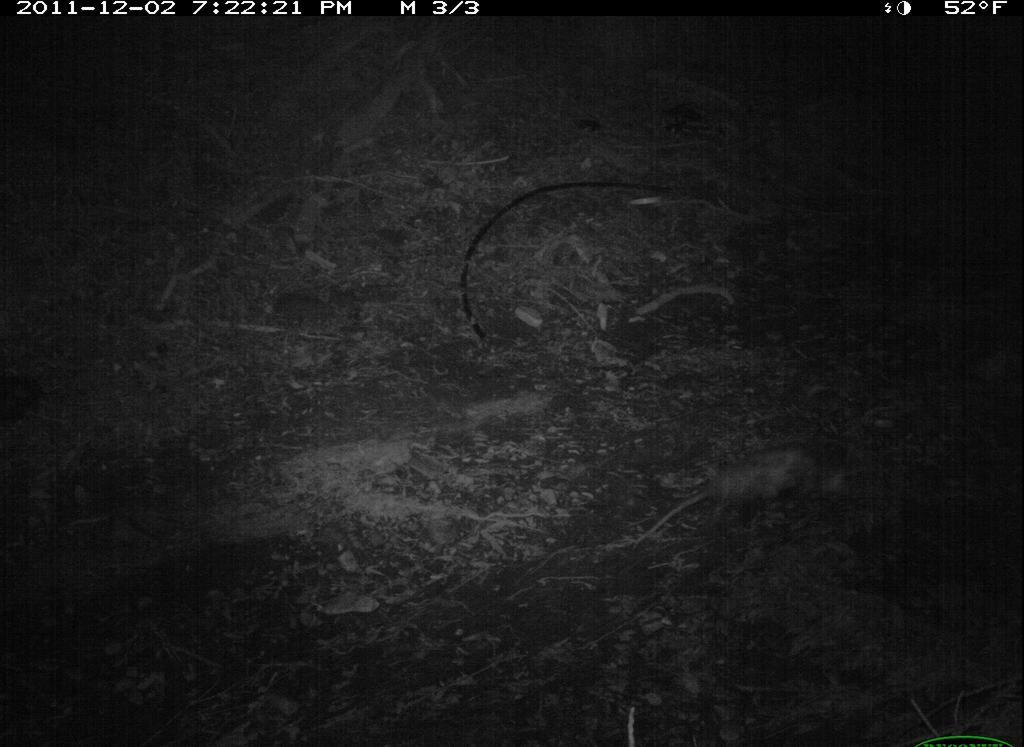opossum: (616, 434, 859, 563)
